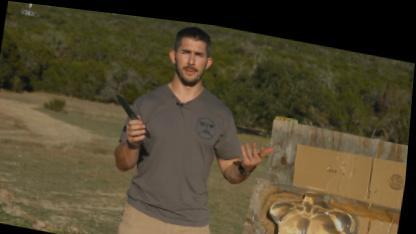knife: (106, 86, 152, 139)
